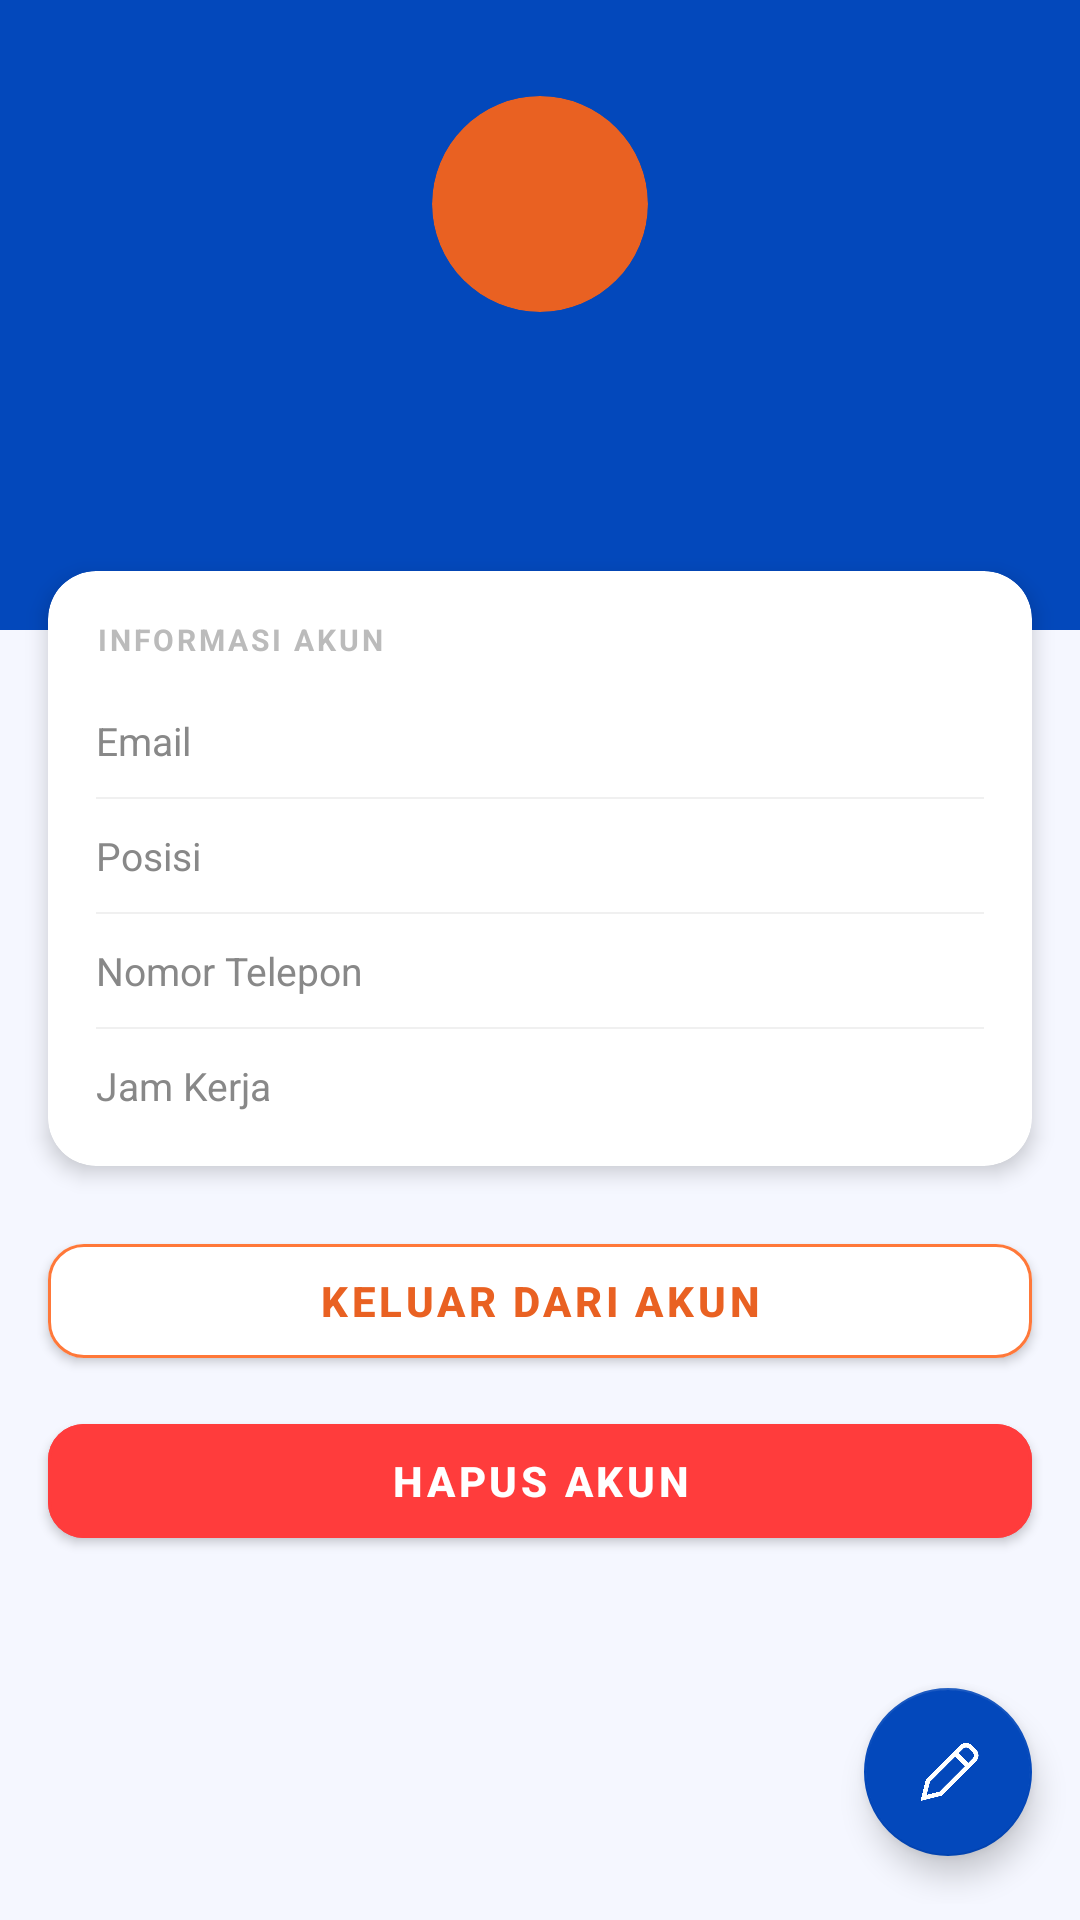

Icons on this 1080x1920 Android screen, each with its box as bbox=(x1, y1, x2, y2):
Edit Profile: bbox=(864, 1688, 1032, 1856)
